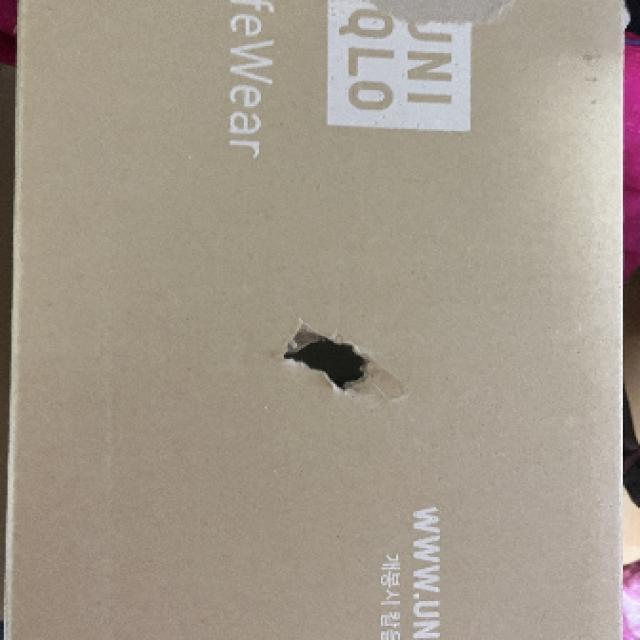hole: (272, 326, 404, 394)
